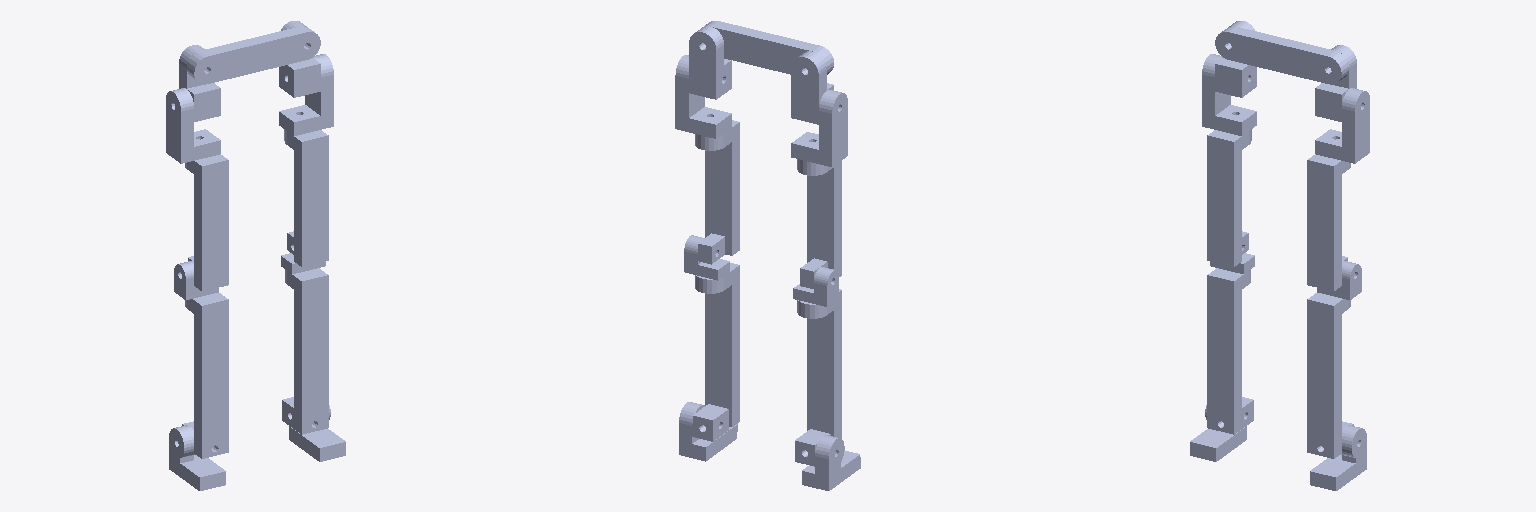
URDF robot description (robot_structure_real_size):
<?xml version="1.0" encoding="utf-8"?>
<!-- This URDF was automatically created by SolidWorks to URDF Exporter! Originally created by Stephen Brawner (brawner@gmail.com) 
     Commit Version: 1.6.0-4-g7f85cfe  Build Version: 1.6.7995.38578
     For more information, please see http://wiki.ros.org/sw_urdf_exporter -->
<robot
  name="robot_structure_real_size">
  <!-- customize start -->
  <mujoco>
      <compiler meshdir="" 
        balanceinertia="true" 
        discardvisual="false"/>
  </mujoco>
  <link name="world"></link>
  <joint name="floating_base_joint" type="floating">
    <parent link="world" />
    <child link="base_link"/>
  </joint>
  <!-- customize end  -->
  <link
    name="base_link">
    <inertial>
      <origin
        xyz="6.14553106247005E-18 1.73472347597681E-18 0.02"
        rpy="0 0 0" />
      <mass
        value="0.141991148575129" />
      <inertia
        ixx="2.32266774546245E-05"
        ixy="8.27180612553027E-23"
        ixz="-5.8783046359073E-22"
        iyy="0.000401687489072672"
        iyz="-5.64688631502867E-22"
        izz="0.000387926888189722" />
    </inertial>
    <visual>
      <origin
        xyz="0 0 0"
        rpy="0 0 0" />
      <geometry>
        <mesh
          filename="package://robot_structure_real_size/meshes/base_link.STL" />
      </geometry>
      <material
        name="">
        <color
          rgba="0.792156862745098 0.819607843137255 0.933333333333333 1" />
      </material>
    </visual>
    <collision>
      <origin
        xyz="0 0 0"
        rpy="0 0 0" />
      <geometry>
        <mesh
          filename="package://robot_structure_real_size/meshes/base_link.STL" />
      </geometry>
    </collision>
  </link>
  <link
    name="right_leg_roll_Link">
    <inertial>
      <origin
        xyz="0 -0.0343882814721337 -0.00365092546924107"
        rpy="0 0 0" />
      <mass
        value="0.0958539816339745" />
      <inertia
        ixx="6.76561488841726E-05"
        ixy="-4.27999060464395E-21"
        ixz="1.42013430926026E-21"
        iyy="2.44633865133999E-05"
        iyz="9.5010432554639E-06"
        izz="6.8315310165269E-05" />
    </inertial>
    <visual>
      <origin
        xyz="0 0 0"
        rpy="0 0 0" />
      <geometry>
        <mesh
          filename="package://robot_structure_real_size/meshes/right_leg_roll_Link.STL" />
      </geometry>
      <material
        name="">
        <color
          rgba="0.792156862745098 0.819607843137255 0.933333333333333 1" />
      </material>
    </visual>
    <collision>
      <origin
        xyz="0 0 0"
        rpy="0 0 0" />
      <geometry>
        <mesh
          filename="package://robot_structure_real_size/meshes/right_leg_roll_Link.STL" />
      </geometry>
    </collision>
  </link>
  <joint
    name="right_leg_roll_joint"
    type="revolute">
    <origin
      xyz="-0.075 0.01 0.02"
      rpy="1.5707963267949 0 0" />
    <parent
      link="base_link" />
    <child
      link="right_leg_roll_Link" />
    <axis
      xyz="0 0 1" />
    <limit
      lower="-1.0472"
      upper="1.0472"
      effort="100"
      velocity="1" />
  </joint>
  <link
    name="right_leg_up_Link">
    <inertial>
      <origin
        xyz="-2.78088081091326E-18 -0.0406333802740563 -0.000999476375001279"
        rpy="0 0 0" />
      <mass
        value="0.101424777960769" />
      <inertia
        ixx="0.000101658230868455"
        ixy="-8.52018341807624E-22"
        ixz="-2.63369435463794E-21"
        iyy="3.92969574159278E-05"
        iyz="2.22437050340483E-05"
        izz="8.93686110005621E-05" />
    </inertial>
    <visual>
      <origin
        xyz="0 0 0"
        rpy="0 0 0" />
      <geometry>
        <mesh
          filename="package://robot_structure_real_size/meshes/right_leg_up_Link.STL" />
      </geometry>
      <material
        name="">
        <color
          rgba="0.792156862745098 0.819607843137255 0.933333333333333 1" />
      </material>
    </visual>
    <collision>
      <origin
        xyz="0 0 0"
        rpy="0 0 0" />
      <geometry>
        <mesh
          filename="package://robot_structure_real_size/meshes/right_leg_up_Link.STL" />
      </geometry>
    </collision>
  </link>
  <joint
    name="right_leg_up_joint"
    type="revolute">
    <origin
      xyz="-0.02 -0.05 0"
      rpy="0 1.5707963267949 0" />
    <parent
      link="right_leg_roll_Link" />
    <child
      link="right_leg_up_Link" />
    <axis
      xyz="0 0 -1" />
    <limit
      lower="-1.3963"
      upper="1.3963"
      effort="100"
      velocity="1" />
  </joint>
  <link
    name="right_leg_outside_Link">
    <inertial>
      <origin
        xyz="1.38777878078145E-17 -0.0236302719282104 0.0850270988548299"
        rpy="0 0 0" />
      <mass
        value="0.186924777960769" />
      <inertia
        ixx="0.000689016168211723"
        ixy="7.09830600086657E-21"
        ixz="-5.60623137914235E-20"
        iyy="0.000676838006107438"
        iyz="2.10896770999784E-05"
        izz="5.84004148512852E-05" />
    </inertial>
    <visual>
      <origin
        xyz="0 0 0"
        rpy="0 0 0" />
      <geometry>
        <mesh
          filename="package://robot_structure_real_size/meshes/right_leg_outside_Link.STL" />
      </geometry>
      <material
        name="">
        <color
          rgba="0.792156862745098 0.819607843137255 0.933333333333333 1" />
      </material>
    </visual>
    <collision>
      <origin
        xyz="0 0 0"
        rpy="0 0 0" />
      <geometry>
        <mesh
          filename="package://robot_structure_real_size/meshes/right_leg_outside_Link.STL" />
      </geometry>
    </collision>
  </link>
  <joint
    name="right_leg_outside_joint"
    type="revolute">
    <origin
      xyz="0 -0.075 0.02"
      rpy="1.5707963267949 1.5707963267949 0" />
    <parent
      link="right_leg_up_Link" />
    <child
      link="right_leg_outside_Link" />
    <axis
      xyz="0 0 1" />
    <limit
      lower="-1.0472"
      upper="1.0472"
      effort="100"
      velocity="1" />
  </joint>
  <link
    name="right_knee_Link">
    <inertial>
      <origin
        xyz="3.85194786622424E-18 -0.014021417086689 -0.00123560097851118"
        rpy="0 0 0" />
      <mass
        value="0.035819689898686" />
      <inertia
        ixx="1.22178125265935E-05"
        ixy="1.78600733558588E-22"
        ixz="4.44834863912451E-22"
        iyy="9.74610641812505E-06"
        iyz="2.66174982979266E-06"
        izz="7.95756057925976E-06" />
    </inertial>
    <visual>
      <origin
        xyz="0 0 0"
        rpy="0 0 0" />
      <geometry>
        <mesh
          filename="package://robot_structure_real_size/meshes/right_knee_Link.STL" />
      </geometry>
      <material
        name="">
        <color
          rgba="0.792156862745098 0.819607843137255 0.933333333333333 1" />
      </material>
    </visual>
    <collision>
      <origin
        xyz="0 0 0"
        rpy="0 0 0" />
      <geometry>
        <mesh
          filename="package://robot_structure_real_size/meshes/right_knee_Link.STL" />
      </geometry>
    </collision>
  </link>
  <joint
    name="right_knee_joint"
    type="revolute">
    <origin
      xyz="0.01 0 0.170317541634481"
      rpy="-1.5707963267949 0 1.5707963267949" />
    <parent
      link="right_leg_outside_Link" />
    <child
      link="right_knee_Link" />
    <axis
      xyz="0 0 -1" />
    <limit
      lower="-1.2217"
      upper="1.2217"
      effort="100"
      velocity="1" />
  </joint>
  <link
    name="right_lowerleg_Link">
    <inertial>
      <origin
        xyz="0 -0.0262440872322027 0.0958178467894735"
        rpy="0 0 0" />
      <mass
        value="0.201424777960769" />
      <inertia
        ixx="0.000951940218050455"
        ixy="1.47208837290136E-20"
        ixz="4.31746506147168E-20"
        iyy="0.00095132821890877"
        iyz="6.49241099173494E-05"
        izz="5.42860033563879E-05" />
    </inertial>
    <visual>
      <origin
        xyz="0 0 0"
        rpy="0 0 0" />
      <geometry>
        <mesh
          filename="package://robot_structure_real_size/meshes/right_lowerleg_Link.STL" />
      </geometry>
      <material
        name="">
        <color
          rgba="0.792156862745098 0.819607843137255 0.933333333333333 1" />
      </material>
    </visual>
    <collision>
      <origin
        xyz="0 0 0"
        rpy="0 0 0" />
      <geometry>
        <mesh
          filename="package://robot_structure_real_size/meshes/right_lowerleg_Link.STL" />
      </geometry>
    </collision>
  </link>
  <joint
    name="right_lowerleg_joint"
    type="revolute">
    <origin
      xyz="0 -0.0300000000000001 0.01"
      rpy="1.5707963267949 1.5707963267949 0" />
    <parent
      link="right_knee_Link" />
    <child
      link="right_lowerleg_Link" />
    <axis
      xyz="0 0 1" />
    <limit
      lower="-0.5236"
      upper="0.5236"
      effort="100"
      velocity="1" />
  </joint>
  <link
    name="right_ankle_roll_Link">
    <inertial>
      <origin
        xyz="9.44822164949954E-10 -5.1485482543967E-12 -0.0200000016797088"
        rpy="0 0 0" />
      <mass
        value="0.0311688900320089" />
      <inertia
        ixx="7.03980652807156E-06"
        ixy="-8.77310325016056E-10"
        ixz="-2.85586633240353E-15"
        iyy="6.87894187492042E-06"
        iyz="-5.24078936964661E-13"
        izz="5.17706678688608E-06" />
    </inertial>
    <visual>
      <origin
        xyz="0 0 0"
        rpy="0 0 0" />
      <geometry>
        <mesh
          filename="package://robot_structure_real_size/meshes/right_ankle_roll_Link.STL" />
      </geometry>
      <material
        name="">
        <color
          rgba="0.792156862745098 0.819607843137255 0.933333333333333 1" />
      </material>
    </visual>
    <collision>
      <origin
        xyz="0 0 0"
        rpy="0 0 0" />
      <geometry>
        <mesh
          filename="package://robot_structure_real_size/meshes/right_ankle_roll_Link.STL" />
      </geometry>
    </collision>
  </link>
  <joint
    name="right_ankle_roll_joint"
    type="revolute">
    <origin
      xyz="0 -0.02 0.21"
      rpy="-1.5707963267949 0 3.14159265358979" />
    <parent
      link="right_lowerleg_Link" />
    <child
      link="right_ankle_roll_Link" />
    <axis
      xyz="0 0 -1" />
    <limit
      lower="-0.5236"
      upper="0.5236"
      effort="100"
      velocity="1" />
  </joint>
  <link
    name="right_foot_Link">
    <inertial>
      <origin
        xyz="-0.01340843692001 -0.0252833045149068 -0.00307751234672078"
        rpy="0 0 0" />
      <mass
        value="0.0924523136847811" />
      <inertia
        ixx="3.741585170487E-05"
        ixy="-1.27452786994767E-05"
        ixz="4.2186003711936E-06"
        iyy="5.78153378014547E-05"
        iyz="6.21868511045983E-06"
        izz="7.23284861235369E-05" />
    </inertial>
    <visual>
      <origin
        xyz="0 0 0"
        rpy="0 0 0" />
      <geometry>
        <mesh
          filename="package://robot_structure_real_size/meshes/right_foot_Link.STL" />
      </geometry>
      <material
        name="">
        <color
          rgba="0.792156862745098 0.819607843137255 0.933333333333333 1" />
      </material>
    </visual>
    <collision>
      <origin
        xyz="0 0 0"
        rpy="0 0 0" />
      <geometry>
        <mesh
          filename="package://robot_structure_real_size/meshes/right_foot_Link.STL" />
      </geometry>
    </collision>
  </link>
  <joint
    name="right_foot_joint"
    type="revolute">
    <origin
      xyz="-0.0149997773006886 8.17369546108893E-05 -0.0199999999999991"
      rpy="0.005449157274627 1.57079631189374 0" />
    <parent
      link="right_ankle_roll_Link" />
    <child
      link="right_foot_Link" />
    <axis
      xyz="0 0 -1" />
    <limit
      lower="-0.87267"
      upper="0.87267"
      effort="100"
      velocity="1" />
  </joint>
  <link
    name="left_leg_roll_Link">
    <inertial>
      <origin
        xyz="0 -0.0343882814721337 -0.00365092546924107"
        rpy="0 0 0" />
      <mass
        value="0.0958539816339745" />
      <inertia
        ixx="6.76561488841726E-05"
        ixy="5.23880878695911E-21"
        ixz="-2.70381607960038E-22"
        iyy="2.44633865133999E-05"
        iyz="9.5010432554639E-06"
        izz="6.8315310165269E-05" />
    </inertial>
    <visual>
      <origin
        xyz="0 0 0"
        rpy="0 0 0" />
      <geometry>
        <mesh
          filename="package://robot_structure_real_size/meshes/left_leg_roll_Link.STL" />
      </geometry>
      <material
        name="">
        <color
          rgba="0.792156862745098 0.819607843137255 0.933333333333333 1" />
      </material>
    </visual>
    <collision>
      <origin
        xyz="0 0 0"
        rpy="0 0 0" />
      <geometry>
        <mesh
          filename="package://robot_structure_real_size/meshes/left_leg_roll_Link.STL" />
      </geometry>
    </collision>
  </link>
  <joint
    name="left_leg_roll_joint"
    type="revolute">
    <origin
      xyz="0.075 0.01 0.02"
      rpy="1.5707963267949 0 0" />
    <parent
      link="base_link" />
    <child
      link="left_leg_roll_Link" />
    <axis
      xyz="0 0 1" />
    <limit
      lower="-1.0472"
      upper="1.0472"
      effort="100"
      velocity="1" />
  </joint>
  <link
    name="left_leg_up_Link">
    <inertial>
      <origin
        xyz="-2.69422051477001E-18 -0.0406333802740563 0.000999476375001293"
        rpy="0 0 0" />
      <mass
        value="0.101424777960769" />
      <inertia
        ixx="0.000101658230868455"
        ixy="-4.22560919796782E-21"
        ixz="1.16365554961946E-21"
        iyy="3.92969574159278E-05"
        iyz="-2.22437050340483E-05"
        izz="8.93686110005621E-05" />
    </inertial>
    <visual>
      <origin
        xyz="0 0 0"
        rpy="0 0 0" />
      <geometry>
        <mesh
          filename="package://robot_structure_real_size/meshes/left_leg_up_Link.STL" />
      </geometry>
      <material
        name="">
        <color
          rgba="0.792156862745098 0.819607843137255 0.933333333333333 1" />
      </material>
    </visual>
    <collision>
      <origin
        xyz="0 0 0"
        rpy="0 0 0" />
      <geometry>
        <mesh
          filename="package://robot_structure_real_size/meshes/left_leg_up_Link.STL" />
      </geometry>
    </collision>
  </link>
  <joint
    name="left_leg_up_joint"
    type="revolute">
    <origin
      xyz="0.02 -0.05 0"
      rpy="0 1.5707963267949 0" />
    <parent
      link="left_leg_roll_Link" />
    <child
      link="left_leg_up_Link" />
    <axis
      xyz="0 0 1" />
    <limit
      lower="-1.3963"
      upper="1.3963"
      effort="100"
      velocity="1" />
  </joint>
  <link
    name="left_leg_outside_Link">
    <inertial>
      <origin
        xyz="-1.38777878078145E-17 -0.0236302719282104 0.0850270988548299"
        rpy="0 0 0" />
      <mass
        value="0.186924777960769" />
      <inertia
        ixx="0.000689016168211723"
        ixy="-1.19773544814471E-20"
        ixz="6.94056957893818E-20"
        iyy="0.000676838006107438"
        iyz="2.10896770999784E-05"
        izz="5.84004148512852E-05" />
    </inertial>
    <visual>
      <origin
        xyz="0 0 0"
        rpy="0 0 0" />
      <geometry>
        <mesh
          filename="package://robot_structure_real_size/meshes/left_leg_outside_Link.STL" />
      </geometry>
      <material
        name="">
        <color
          rgba="0.792156862745098 0.819607843137255 0.933333333333333 1" />
      </material>
    </visual>
    <collision>
      <origin
        xyz="0 0 0"
        rpy="0 0 0" />
      <geometry>
        <mesh
          filename="package://robot_structure_real_size/meshes/left_leg_outside_Link.STL" />
      </geometry>
    </collision>
  </link>
  <joint
    name="left_leg_outside_joint"
    type="revolute">
    <origin
      xyz="0 -0.075 -0.02"
      rpy="1.5707963267949 1.5707963267949 0" />
    <parent
      link="left_leg_up_Link" />
    <child
      link="left_leg_outside_Link" />
    <axis
      xyz="0 0 1" />
    <limit
      lower="-1.047198"
      upper="1.047198"
      effort="100"
      velocity="1" />
  </joint>
  <link
    name="left_knee_Link">
    <inertial>
      <origin
        xyz="2.47407737484954E-18 -0.014021417086689 0.00123560097851115"
        rpy="0 0 0" />
      <mass
        value="0.0358196898986861" />
      <inertia
        ixx="1.22178125265935E-05"
        ixy="5.23072256344449E-22"
        ixz="-2.37132090528996E-22"
        iyy="9.74610641812506E-06"
        iyz="-2.66174982979265E-06"
        izz="7.95756057925976E-06" />
    </inertial>
    <visual>
      <origin
        xyz="0 0 0"
        rpy="0 0 0" />
      <geometry>
        <mesh
          filename="package://robot_structure_real_size/meshes/left_knee_Link.STL" />
      </geometry>
      <material
        name="">
        <color
          rgba="0.792156862745098 0.819607843137255 0.933333333333333 1" />
      </material>
    </visual>
    <collision>
      <origin
        xyz="0 0 0"
        rpy="0 0 0" />
      <geometry>
        <mesh
          filename="package://robot_structure_real_size/meshes/left_knee_Link.STL" />
      </geometry>
    </collision>
  </link>
  <joint
    name="left_knee_joint"
    type="revolute">
    <origin
      xyz="-0.01 0 0.170317541634481"
      rpy="-1.5707963267949 0 1.5707963267949" />
    <parent
      link="left_leg_outside_Link" />
    <child
      link="left_knee_Link" />
    <axis
      xyz="0 0 1" />
    <limit
      lower="-1.2217"
      upper="1.2217"
      effort="100"
      velocity="1" />
  </joint>
  <link
    name="left_lowerleg_Link">
    <inertial>
      <origin
        xyz="0 -0.0262440872322027 0.0958178467894735"
        rpy="0 0 0" />
      <mass
        value="0.201424777960769" />
      <inertia
        ixx="0.000951940218050455"
        ixy="-6.21951101794581E-21"
        ixz="-2.75687151593528E-20"
        iyy="0.000951328218908769"
        iyz="6.49241099173494E-05"
        izz="5.42860033563878E-05" />
    </inertial>
    <visual>
      <origin
        xyz="0 0 0"
        rpy="0 0 0" />
      <geometry>
        <mesh
          filename="package://robot_structure_real_size/meshes/left_lowerleg_Link.STL" />
      </geometry>
      <material
        name="">
        <color
          rgba="0.792156862745098 0.819607843137255 0.933333333333333 1" />
      </material>
    </visual>
    <collision>
      <origin
        xyz="0 0 0"
        rpy="0 0 0" />
      <geometry>
        <mesh
          filename="package://robot_structure_real_size/meshes/left_lowerleg_Link.STL" />
      </geometry>
    </collision>
  </link>
  <joint
    name="left_lowerleg_joint"
    type="revolute">
    <origin
      xyz="0 -0.0300000000000001 -0.01"
      rpy="1.5707963267949 1.5707963267949 0" />
    <parent
      link="left_knee_Link" />
    <child
      link="left_lowerleg_Link" />
    <axis
      xyz="0 0 1" />
    <limit
      lower="-0.5236"
      upper="0.5236"
      effort="100"
      velocity="1" />
  </joint>
  <link
    name="left_ankle_roll_Link">
    <inertial>
      <origin
        xyz="-9.44822164949954E-10 -5.1485482543967E-12 -0.0200000016797088"
        rpy="0 0 0" />
      <mass
        value="0.0311688900320089" />
      <inertia
        ixx="7.03980654330236E-06"
        ixy="8.7591284341309E-10"
        ixz="-2.85576748729036E-15"
        iyy="6.87894185968962E-06"
        iyz="5.24078937568661E-13"
        izz="5.17706678688608E-06" />
    </inertial>
    <visual>
      <origin
        xyz="0 0 0"
        rpy="0 0 0" />
      <geometry>
        <mesh
          filename="package://robot_structure_real_size/meshes/left_ankle_roll_Link.STL" />
      </geometry>
      <material
        name="">
        <color
          rgba="0.792156862745098 0.819607843137255 0.933333333333333 1" />
      </material>
    </visual>
    <collision>
      <origin
        xyz="0 0 0"
        rpy="0 0 0" />
      <geometry>
        <mesh
          filename="package://robot_structure_real_size/meshes/left_ankle_roll_Link.STL" />
      </geometry>
    </collision>
  </link>
  <joint
    name="left_ankle_roll_joint"
    type="revolute">
    <origin
      xyz="0 -0.02 0.21"
      rpy="-1.5707963267949 0 3.14159265358979" />
    <parent
      link="left_lowerleg_Link" />
    <child
      link="left_ankle_roll_Link" />
    <axis
      xyz="0 0 -1" />
    <limit
      lower="-0.5236"
      upper="0.5236"
      effort="100"
      velocity="1" />
  </joint>
  <link
    name="left_foot_Link">
    <inertial>
      <origin
        xyz="-0.01340843692001 -0.0252833045149068 0.00307751234672078"
        rpy="0 0 0" />
      <mass
        value="0.0924523136847812" />
      <inertia
        ixx="3.741585170487E-05"
        ixy="-1.27452786994767E-05"
        ixz="-4.21860037119361E-06"
        iyy="5.78153378014548E-05"
        iyz="-6.21868511045983E-06"
        izz="7.23284861235369E-05" />
    </inertial>
    <visual>
      <origin
        xyz="0 0 0"
        rpy="0 0 0" />
      <geometry>
        <mesh
          filename="package://robot_structure_real_size/meshes/left_foot_Link.STL" />
      </geometry>
      <material
        name="">
        <color
          rgba="0.792156862745098 0.819607843137255 0.933333333333333 1" />
      </material>
    </visual>
    <collision>
      <origin
        xyz="0 0 0"
        rpy="0 0 0" />
      <geometry>
        <mesh
          filename="package://robot_structure_real_size/meshes/left_foot_Link.STL" />
      </geometry>
    </collision>
  </link>
  <joint
    name="left_foot_joint"
    type="revolute">
    <origin
      xyz="0.0149997773006886 8.17369546110003E-05 -0.02"
      rpy="3.13614349631517 1.57079631189374 3.14159265358979" />
    <parent
      link="left_ankle_roll_Link" />
    <child
      link="left_foot_Link" />
    <axis
      xyz="0 0 1" />
    <limit
      lower="-0.87267"
      upper="0.87267"
      effort="100"
      velocity="1" />
  </joint>
</robot>

--- What the picture shows (computed from the rendered views, not written in the file) ---
Views: 3 orthographic renders of the robot side by side, from view 1: azimuth 30°, elevation 25°; view 2: azimuth 150°, elevation 25°; view 3: azimuth 330°, elevation 25°.
Robot: robot_structure_real_size — 16 links, 15 joints (14 revolute, 1 floating); root link world; default pose: all joints at 0.
Visible links, largest first — view 1: left_lowerleg_Link, right_lowerleg_Link, left_leg_outside_Link, right_leg_outside_Link, base_link, right_leg_up_Link, left_leg_up_Link, right_foot_Link, right_leg_roll_Link, left_leg_roll_Link, left_foot_Link, right_knee_Link; view 2: left_lowerleg_Link, right_lowerleg_Link, left_leg_outside_Link, right_leg_outside_Link, base_link, right_leg_up_Link, left_leg_roll_Link, left_leg_up_Link, right_leg_roll_Link, right_foot_Link, left_foot_Link, right_knee_Link (+3 smaller); view 3: right_lowerleg_Link, left_lowerleg_Link, right_leg_outside_Link, left_leg_outside_Link, base_link, left_leg_up_Link, right_leg_up_Link, left_foot_Link, left_leg_roll_Link, right_leg_roll_Link, right_foot_Link, left_knee_Link.
Link boxes in pixels (bbox=[...]): left_lowerleg_Link: bbox=[285, 268, 328, 434]; right_lowerleg_Link: bbox=[185, 293, 228, 458]; left_leg_outside_Link: bbox=[284, 129, 328, 266]; right_leg_outside_Link: bbox=[185, 154, 228, 291]; base_link: bbox=[187, 26, 320, 84]; right_leg_up_Link: bbox=[166, 88, 220, 163]; left_leg_up_Link: bbox=[279, 54, 333, 135]; right_foot_Link: bbox=[169, 425, 225, 490]; right_leg_roll_Link: bbox=[179, 45, 220, 121]; left_leg_roll_Link: bbox=[279, 21, 320, 97]; left_foot_Link: bbox=[289, 405, 345, 461]; right_knee_Link: bbox=[174, 261, 218, 299]; left_lowerleg_Link: bbox=[695, 263, 739, 426]; right_lowerleg_Link: bbox=[797, 289, 841, 438]; left_leg_outside_Link: bbox=[695, 120, 739, 264]; right_leg_outside_Link: bbox=[797, 159, 841, 288]; base_link: bbox=[704, 21, 833, 74]; right_leg_up_Link: bbox=[791, 90, 847, 166]; left_leg_roll_Link: bbox=[689, 26, 731, 99]; left_leg_up_Link: bbox=[675, 55, 731, 138]; right_leg_roll_Link: bbox=[791, 51, 833, 124]; right_foot_Link: bbox=[802, 435, 860, 490]; left_foot_Link: bbox=[679, 402, 737, 461]; right_knee_Link: bbox=[793, 267, 838, 306]; right_lowerleg_Link: bbox=[1207, 268, 1250, 434]; left_lowerleg_Link: bbox=[1307, 293, 1350, 458]; right_leg_outside_Link: bbox=[1207, 129, 1251, 266]; left_leg_outside_Link: bbox=[1307, 154, 1350, 291]; base_link: bbox=[1215, 26, 1348, 84]; left_leg_up_Link: bbox=[1315, 88, 1369, 163]; right_leg_up_Link: bbox=[1202, 54, 1256, 135]; left_foot_Link: bbox=[1310, 425, 1366, 490]; left_leg_roll_Link: bbox=[1315, 45, 1356, 121]; right_leg_roll_Link: bbox=[1215, 21, 1256, 97]; right_foot_Link: bbox=[1190, 405, 1246, 461]; left_knee_Link: bbox=[1317, 261, 1361, 299].
Size in the robot's own frame: 0.23 by 0.08 by 0.6003 metres.
Meshes: 15 distinct files referenced, 15 mesh visuals loaded (15 binary STL).
